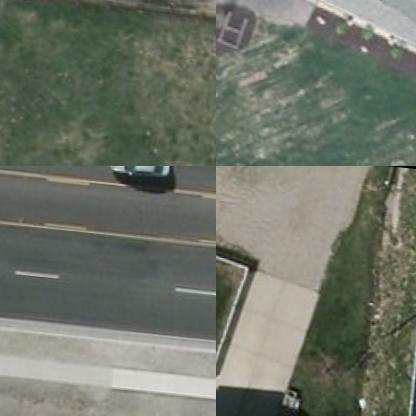car: (107, 166, 172, 180)
